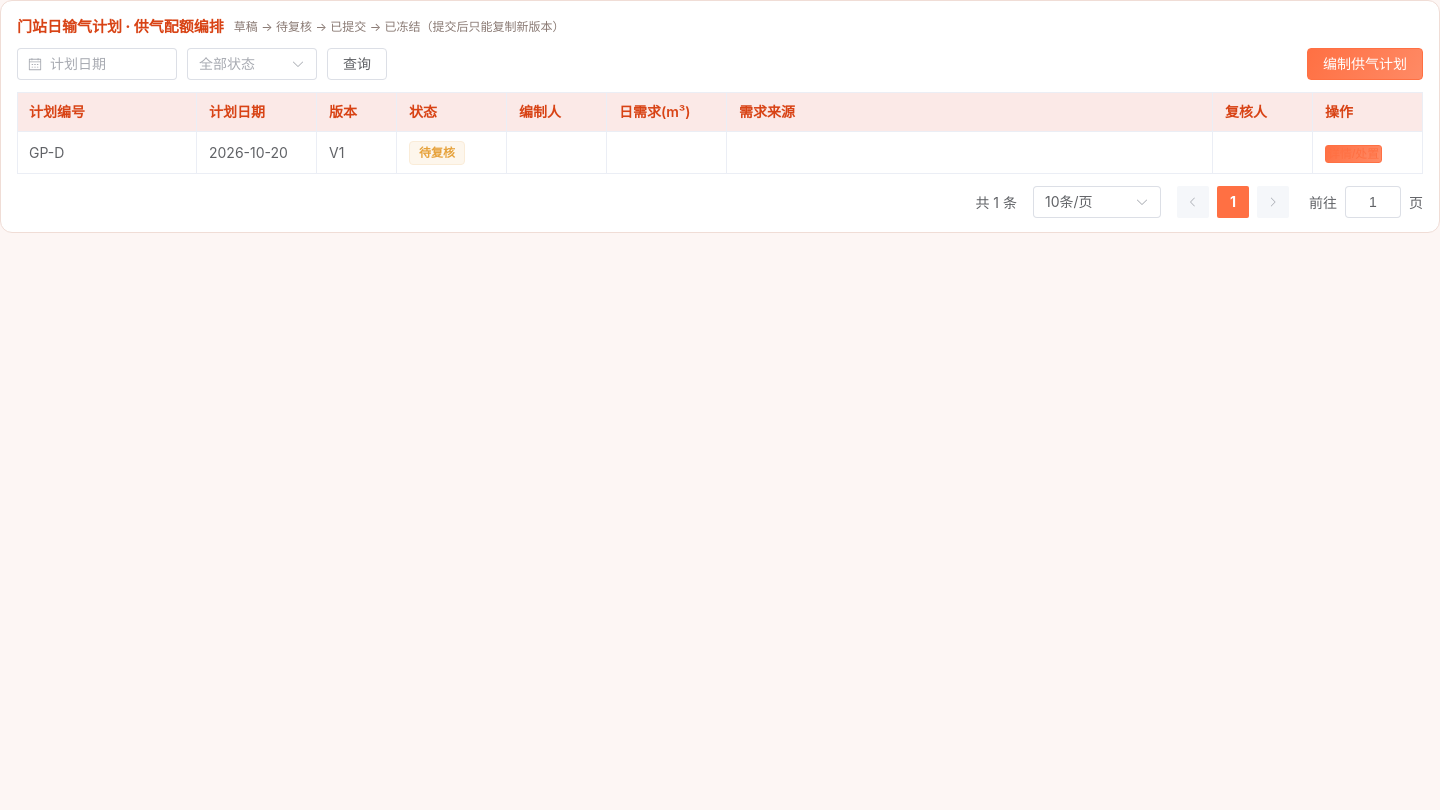
Test case: 供气计划列表 › 点详情加载详情抽屉
Click the button "详情/处置".
click(1354, 154)  # box [1325,145,1382,163]
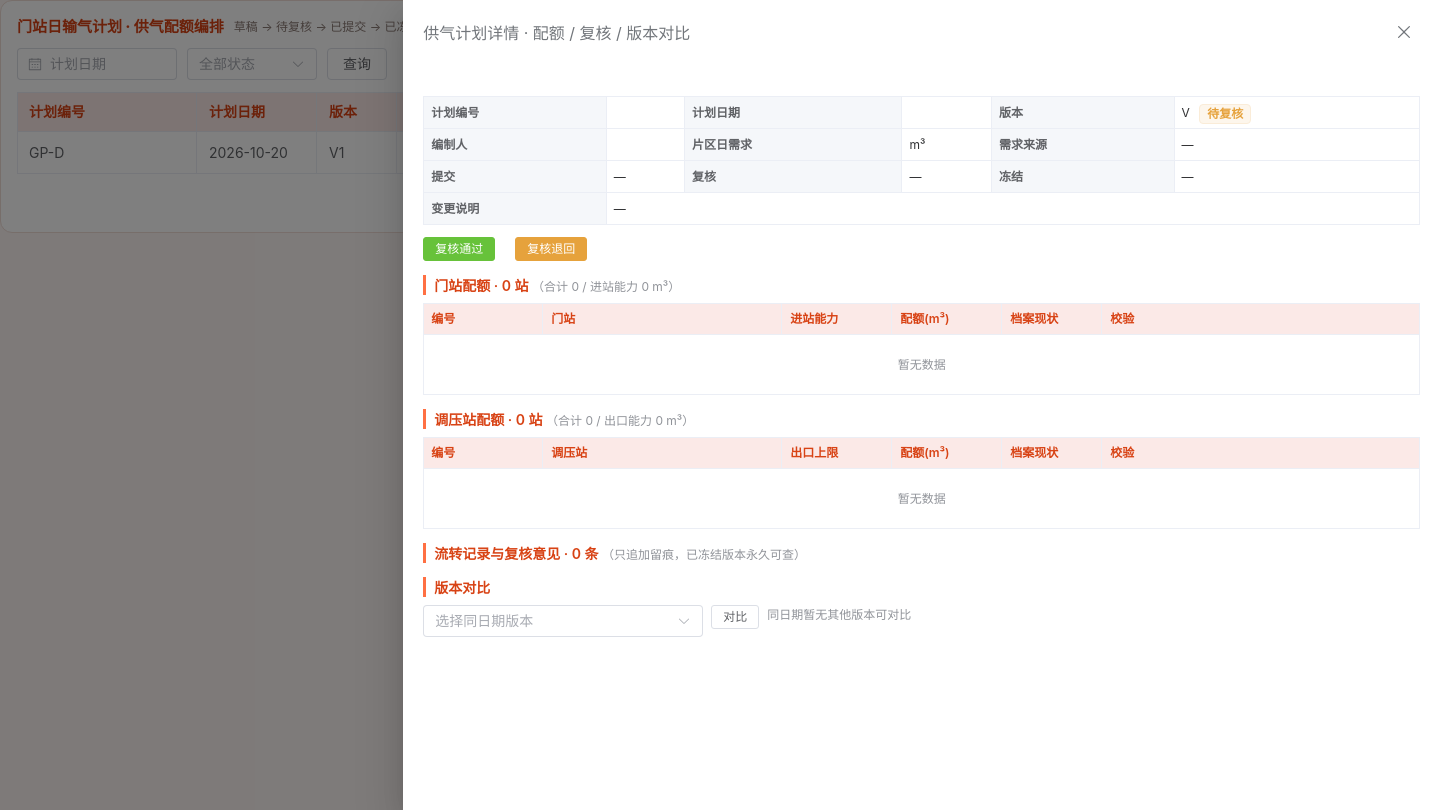
expect the element that starts with "计划编号" is shown: met, box [423,96,1420,637]
